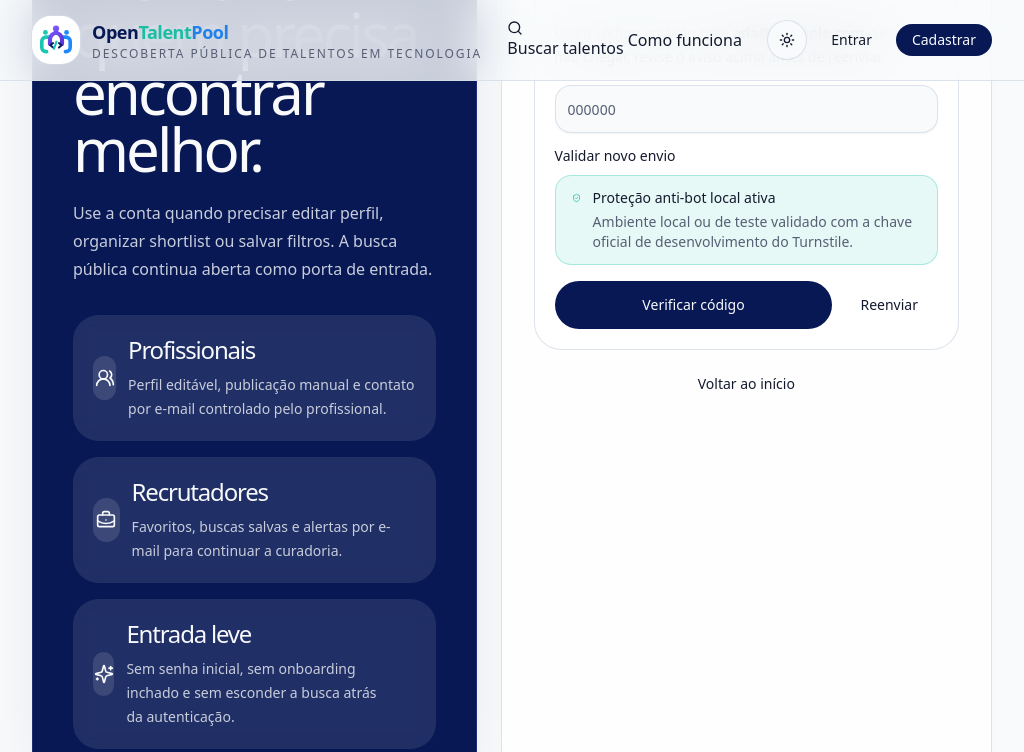
Auth › limpa o desafio pendente salvo ao voltar para a etapa inicial
(page scrolled)
Expected: the text "Use o código enviado para" is shown, [555,23,733,42]
Click the button "Voltar ao início" at (746, 384), box [534,366,959,402]
(page scrolled)
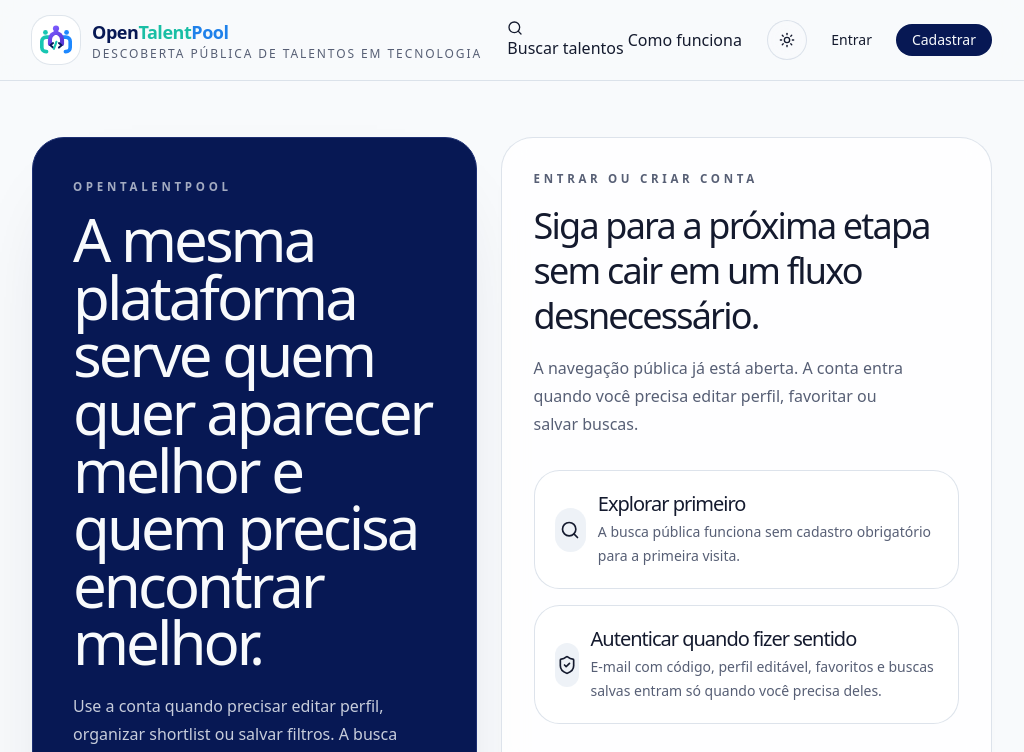
Now the heading "Siga para a próxima etapa sem cair em um fluxo desnecessário" is shown, box [534,203,959,338]
